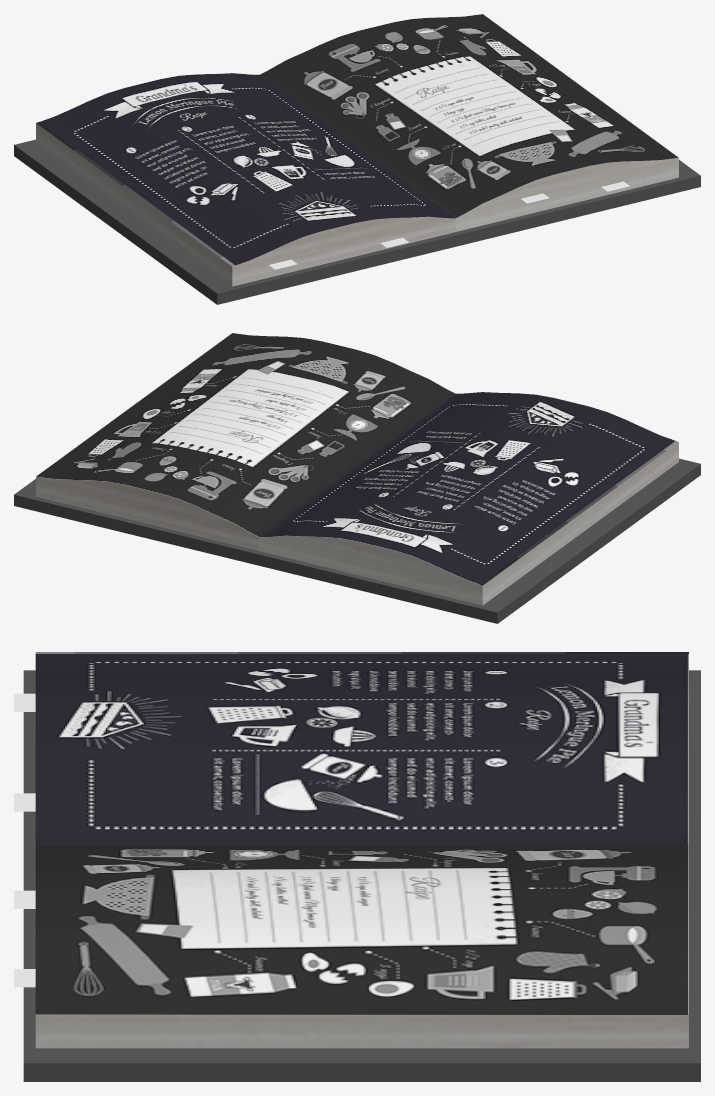
File: RecipeBook.fbx
The picture shows the model from 3 angles, top to bottom: view 1: azimuth 30°, elevation 25°; view 2: azimuth 150°, elevation 25°; view 3: azimuth 270°, elevation 25°; orthographic projection. The views are drawn at different scales.
Visible parts, largest first — view 1: RecipeBook; view 2: RecipeBook; view 3: RecipeBook.
Boxes of the visible parts, box(x1,y1,x2,y2) form: RecipeBook: box(14, 14, 700, 304); RecipeBook: box(14, 333, 700, 623); RecipeBook: box(14, 652, 700, 1081).
Size of the model in its own units: 0.5824 by 0.0515 by 0.4303.
